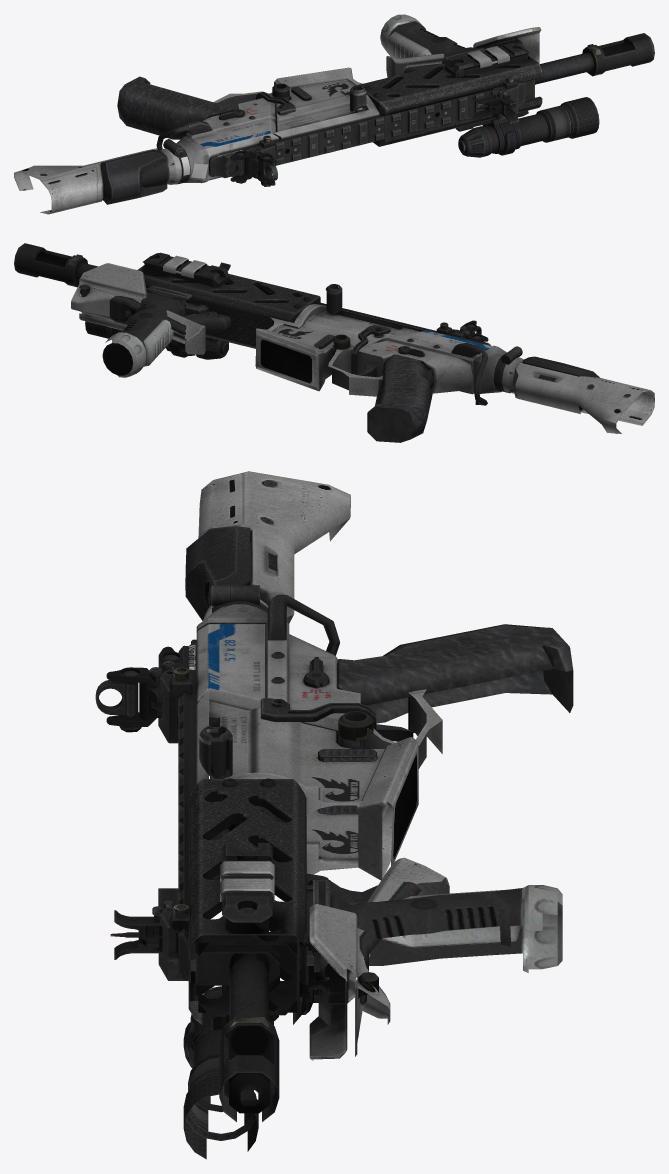
File: t6_wpn_smg_peacekeeper_view_LOD0.obj
3 renders of one model, top to bottom at view 1: azimuth 30°, elevation 25°; view 2: azimuth 150°, elevation 25°; view 3: azimuth 270°, elevation 25°, orthographic. The views are drawn at different scales.
Parts seen in each view (by area): view 1: mtl_t6_wpn_smg_peacekeeper_camo2, mtl_t6_wpn_smg_peacekeeper_camo3, mtl_t6_wpn_smg_peacekeeper, mtl_t6_wpn_smg_peacekeeper_camo4; view 2: mtl_t6_wpn_smg_peacekeeper_camo2, mtl_t6_wpn_smg_peacekeeper_camo3, mtl_t6_wpn_smg_peacekeeper_camo4, mtl_t6_wpn_smg_peacekeeper; view 3: mtl_t6_wpn_smg_peacekeeper_camo2, mtl_t6_wpn_smg_peacekeeper_camo3, mtl_t6_wpn_smg_peacekeeper_camo4, mtl_t6_wpn_smg_peacekeeper.
Part boxes in pixels (bbox=[...]): mtl_t6_wpn_smg_peacekeeper_camo2: bbox=[14, 21, 654, 214]; mtl_t6_wpn_smg_peacekeeper_camo3: bbox=[101, 14, 601, 204]; mtl_t6_wpn_smg_peacekeeper: bbox=[176, 43, 577, 185]; mtl_t6_wpn_smg_peacekeeper_camo4: bbox=[101, 27, 541, 194]; mtl_t6_wpn_smg_peacekeeper_camo2: bbox=[14, 243, 654, 433]; mtl_t6_wpn_smg_peacekeeper_camo3: bbox=[68, 254, 599, 442]; mtl_t6_wpn_smg_peacekeeper_camo4: bbox=[71, 259, 579, 406]; mtl_t6_wpn_smg_peacekeeper: bbox=[79, 252, 521, 391]; mtl_t6_wpn_smg_peacekeeper_camo2: bbox=[95, 471, 522, 1159]; mtl_t6_wpn_smg_peacekeeper_camo3: bbox=[122, 526, 573, 1068]; mtl_t6_wpn_smg_peacekeeper_camo4: bbox=[119, 542, 449, 1066]; mtl_t6_wpn_smg_peacekeeper: bbox=[95, 586, 410, 1140].
Bounding box in the file's own units: 61.58 × 9.89 × 20.94.
